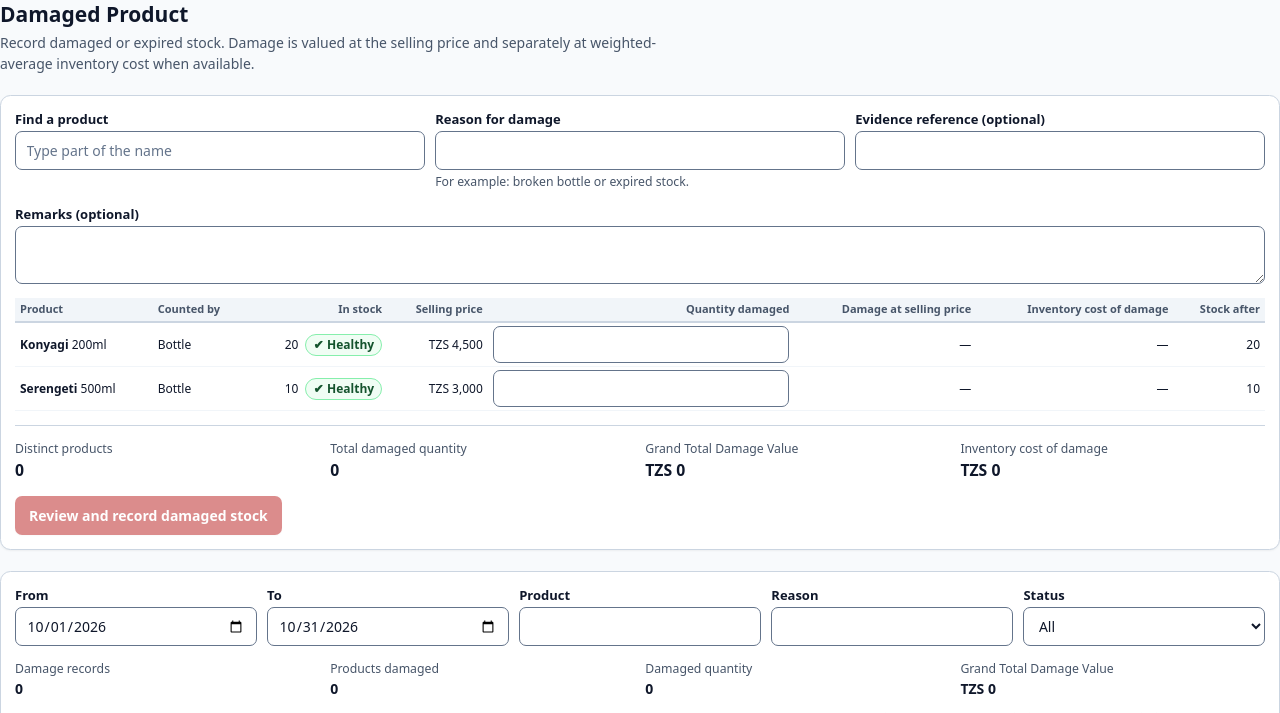
Test: Damaged Product › previews retail and inventory-cost values and submits damaged quantities after confirmation
Type "2" into the field named "Quantity damaged for Konyagi 200ml" at (641, 345), box [493,326,789,363]
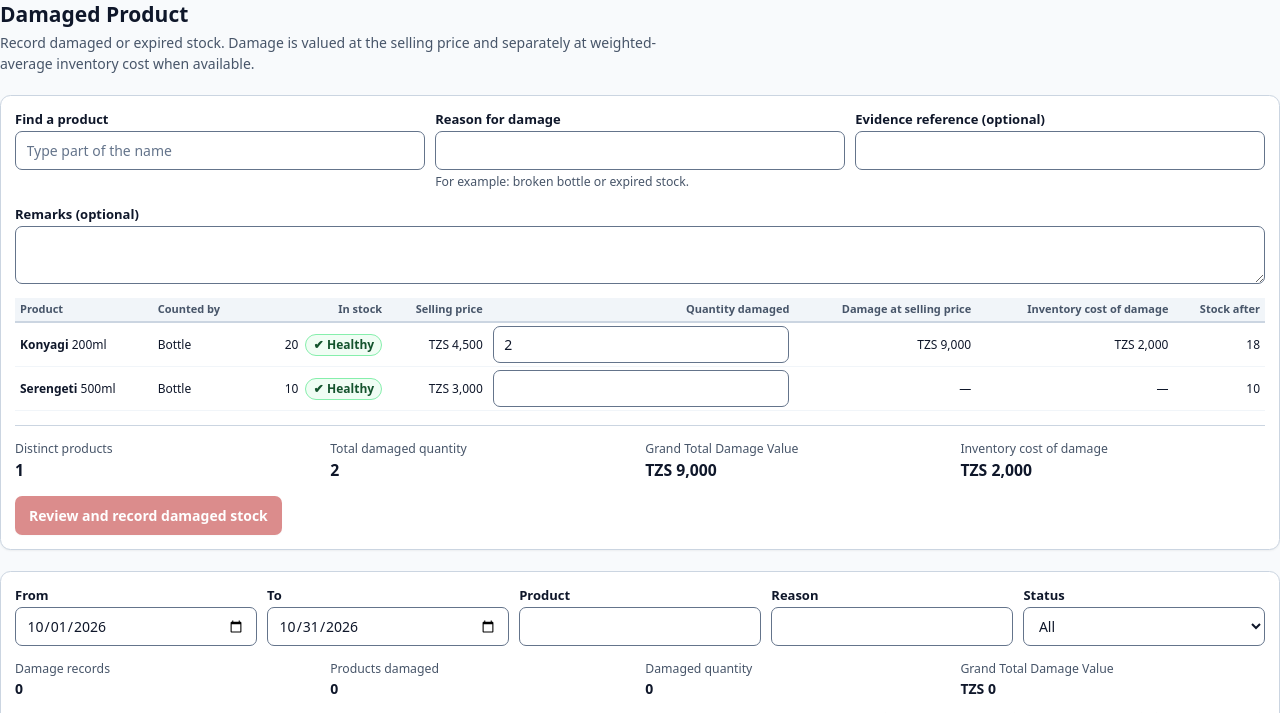
Type "3" into the field named "Quantity damaged for Serengeti 500ml" at (641, 389), box [493,370,789,407]
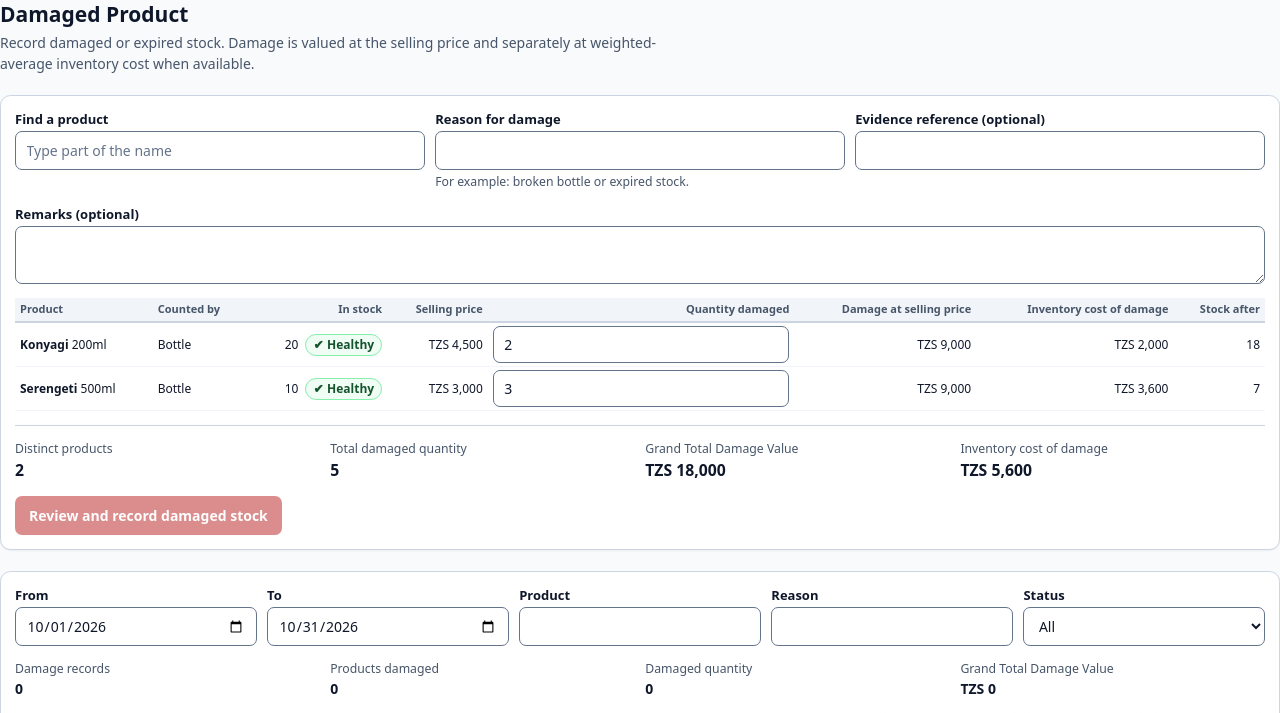
Type "Broken in storage" into the field labelled "Reason for damage" at (640, 150), box [435,131,845,170]
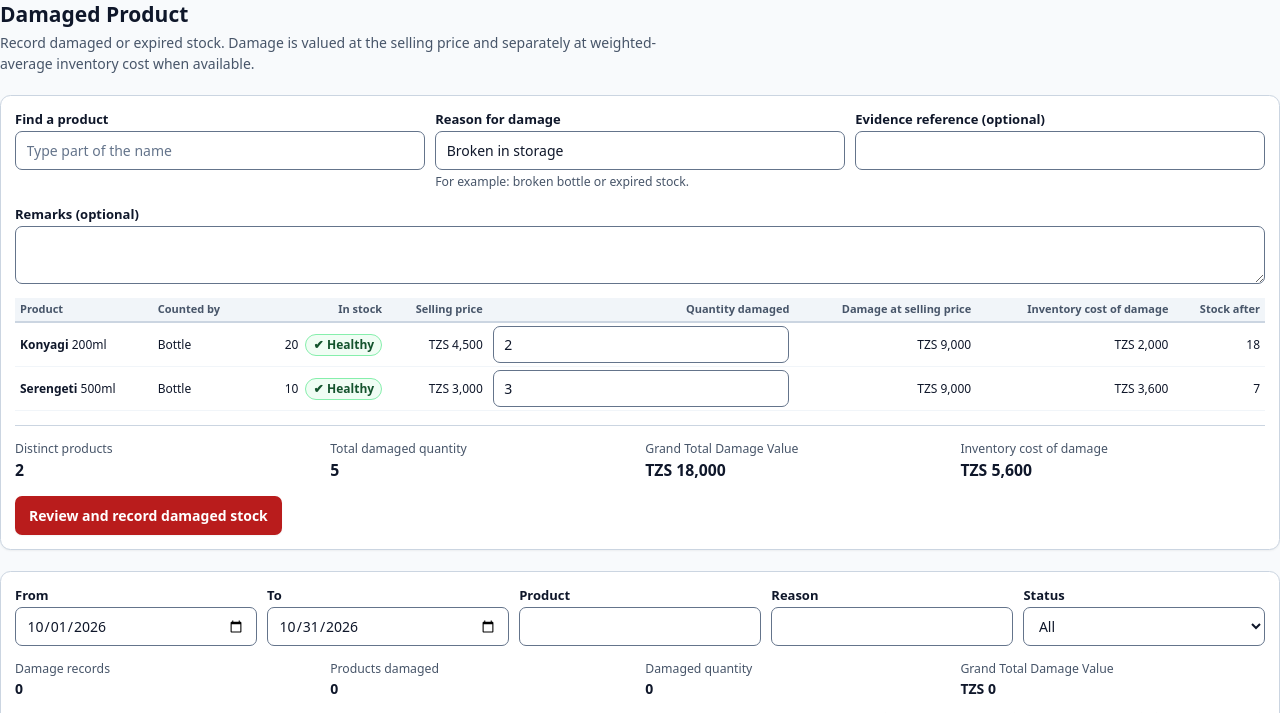
Click the button "Review and record damaged stock" at (148, 515), box [15,496,282,535]
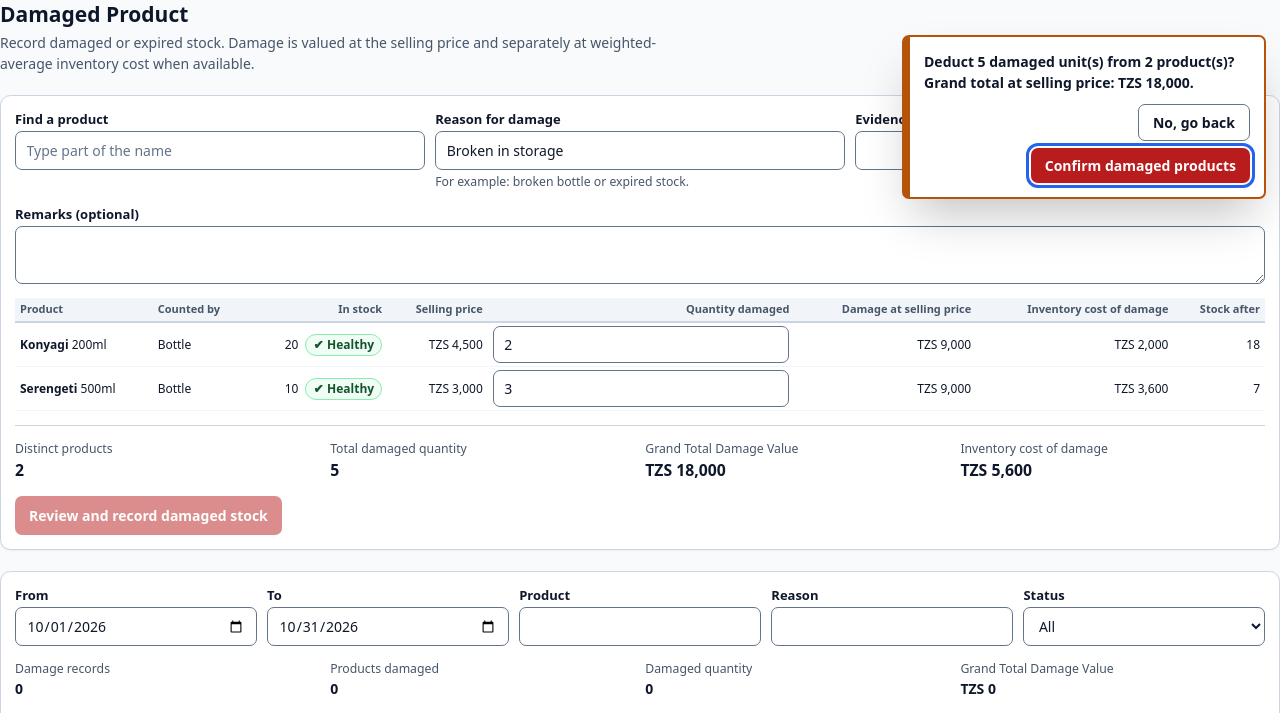
Click the button "Confirm damaged products" at (1140, 165), box [1031,148,1250,182]
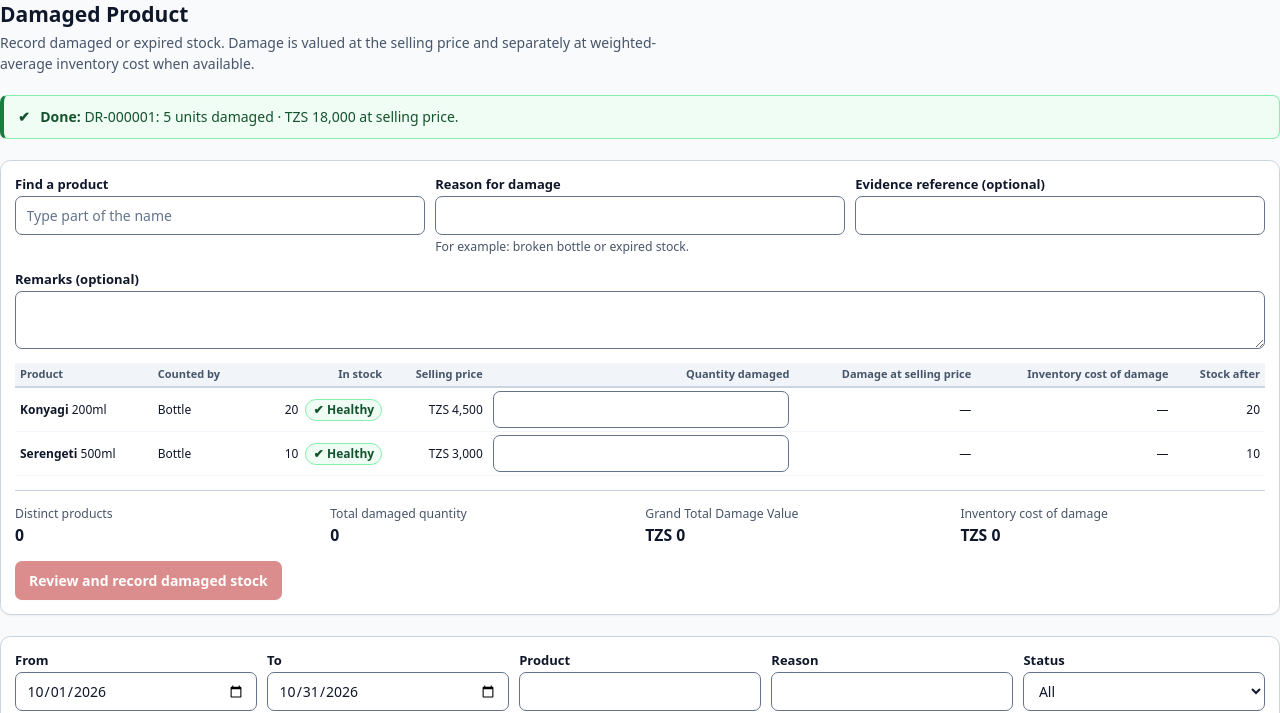
Check: the text "DR-000001: 5 units damaged" is shown, box [84,107,459,126]
